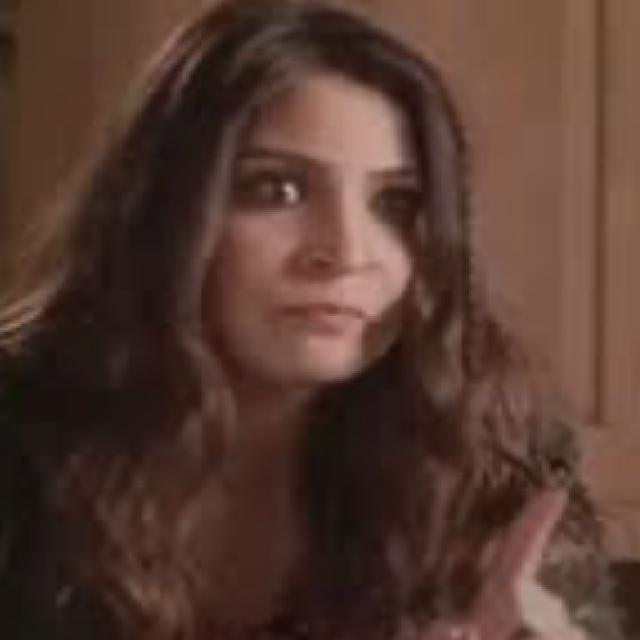angry: (86, 10, 462, 387)
